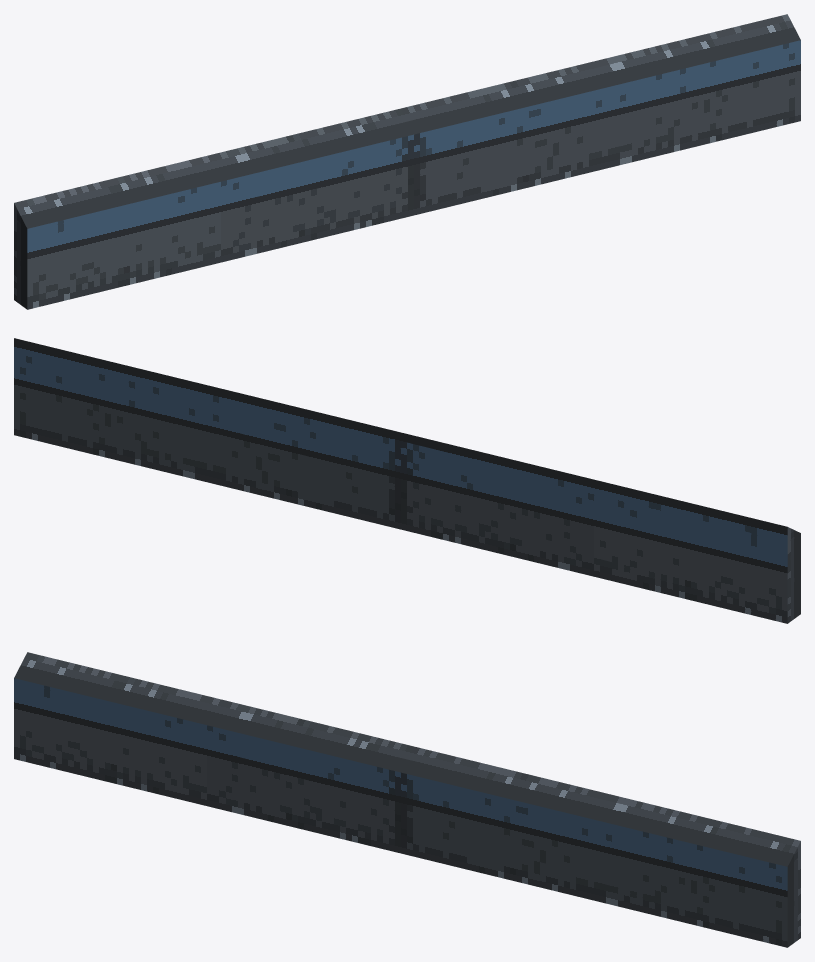
File: arch_trim_rail.glb
3 views of the same model, one above another, from view 1: azimuth 30°, elevation 25°; view 2: azimuth 150°, elevation 25°; view 3: azimuth 330°, elevation 25° (orthographic).
Parts seen in each view (by area): view 1: trim_rail; view 2: trim_rail; view 3: trim_rail.
Boxes of the visible parts, x1,y1,x2,y2 form: trim_rail: (14, 14, 800, 309); trim_rail: (14, 338, 800, 623); trim_rail: (14, 652, 800, 947).
Bounding box in the file's own units: 4 × 0.48 × 0.12.
1 material, 1 textured.
